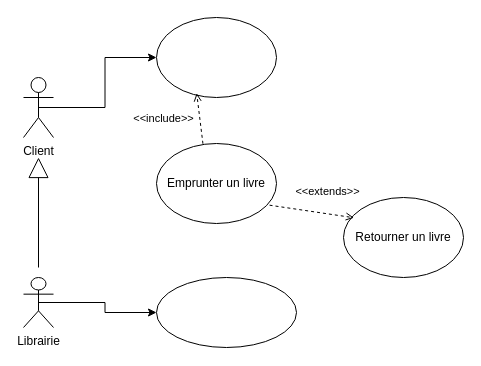
This 481x366 diagram has some shape labels left out. The centre of each missing label's shape, as x and y in pixels:
"Ajouter des livres" belongs at [226,312].
"Vérifier la disponibilité d'un livre" belongs at [216,57].
